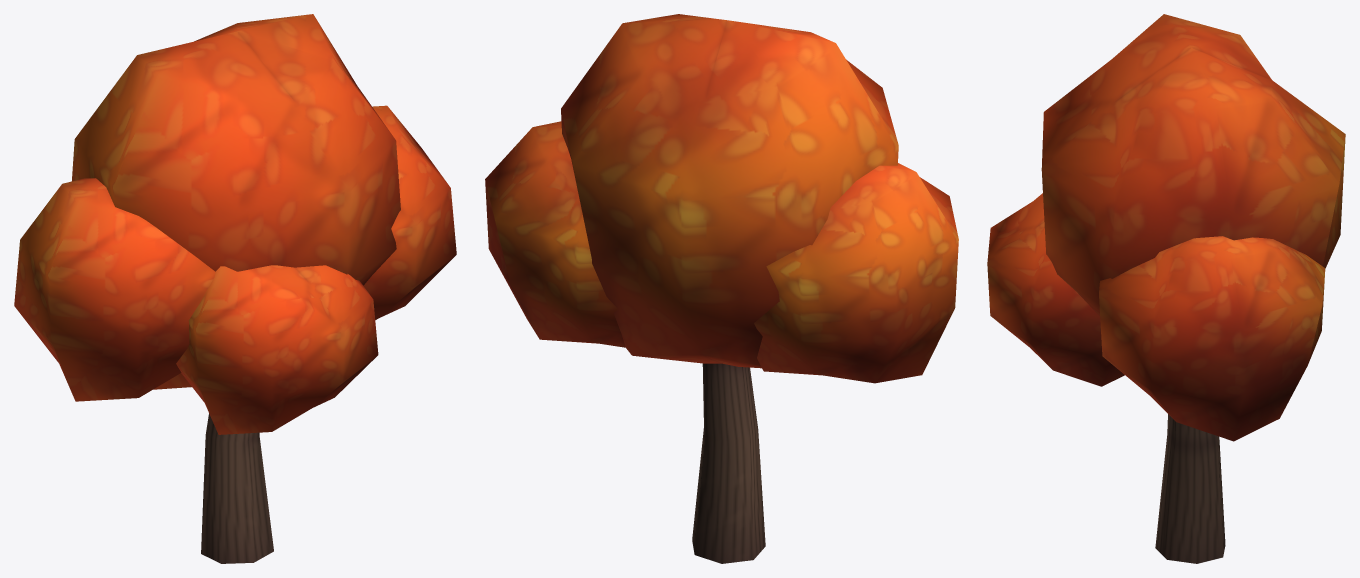
The model's file is maple_tree.obj.
The picture shows the model from 3 angles, left to right: view 1: azimuth 30°, elevation 25°; view 2: azimuth 150°, elevation 25°; view 3: azimuth 270°, elevation 25°; orthographic projection. The views are drawn at different scales.
Parts seen in each view (by area): view 1: MapleTree; view 2: MapleTree; view 3: MapleTree.
Boxes of the visible parts, left/top/right/bottom form: MapleTree: left=14, top=14, right=456, bottom=563; MapleTree: left=485, top=14, right=958, bottom=563; MapleTree: left=987, top=14, right=1345, bottom=563.
Size of the model in its own units: 4.9 by 5.8 by 3.74.
Materials: 1 (1 with a texture image).
